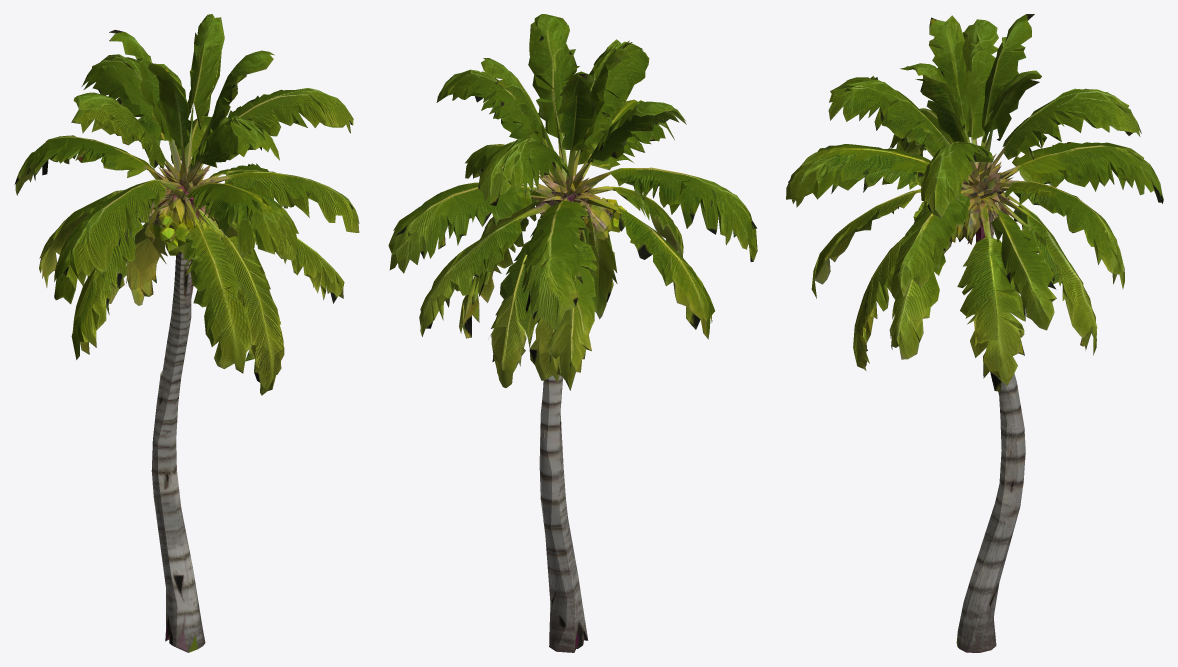
Rendered from coqueiro.glb.
3 views of the same model, side by side, from view 1: azimuth 30°, elevation 25°; view 2: azimuth 150°, elevation 25°; view 3: azimuth 270°, elevation 25° (orthographic).
Parts seen in each view (by area): view 1: Mesh_0; view 2: Mesh_0; view 3: Mesh_0.
Boxes of the visible parts, x1,y1,x2,y2 form: Mesh_0: (14,14,359,652); Mesh_0: (388,14,757,652); Mesh_0: (786,14,1163,652).
Size of the model in its own units: 1 by 1.88 by 1.05.
1 material, 1 textured.
